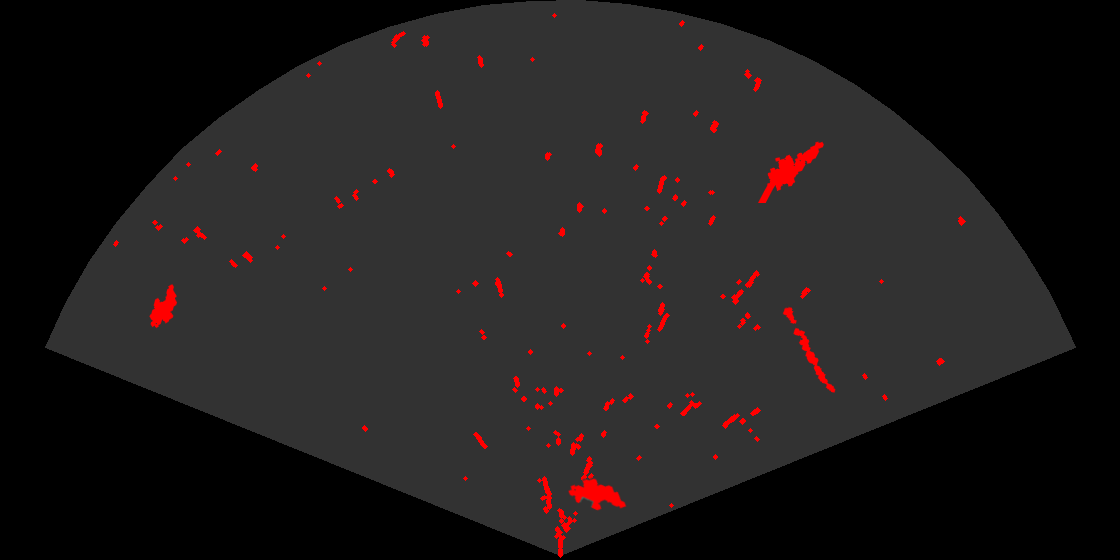AUV: (567, 477, 628, 512), (148, 283, 179, 330)
chain: (781, 305, 837, 394)
frogman: (757, 140, 826, 203)
